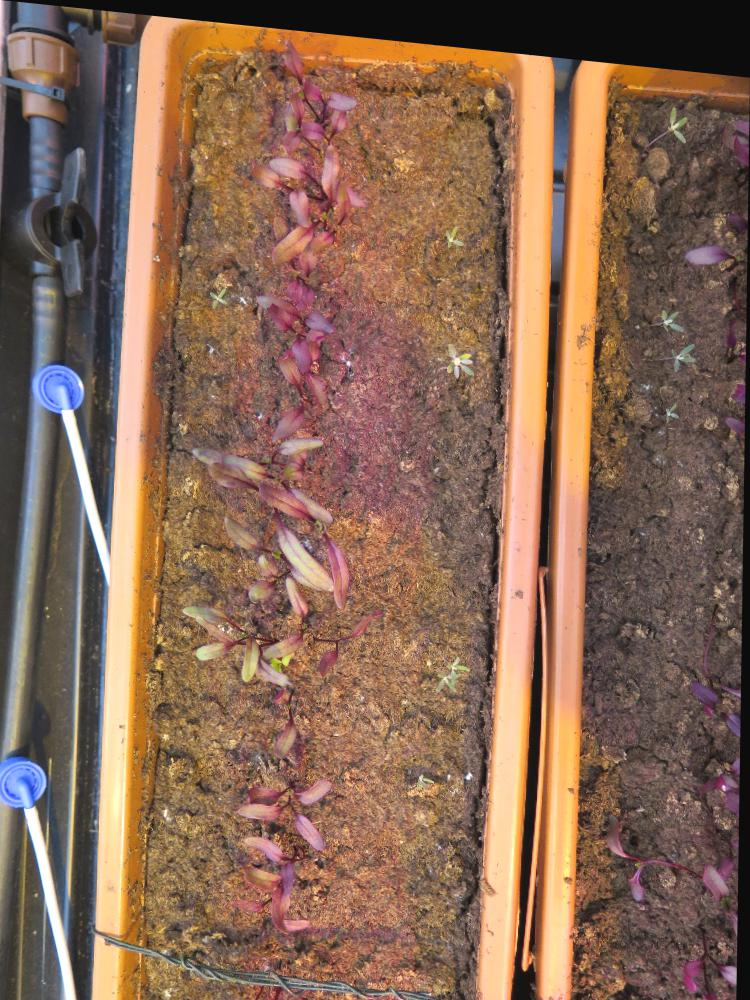weed: (444, 330, 476, 372), (665, 86, 688, 128), (670, 324, 695, 359), (660, 291, 684, 318), (444, 211, 465, 241), (208, 276, 228, 306), (416, 761, 437, 785), (664, 383, 680, 411)
